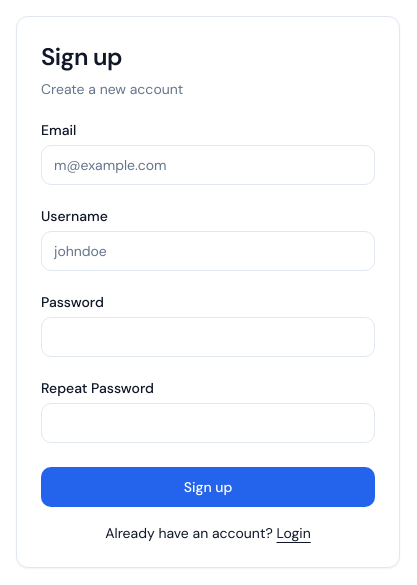
Test: SignUpPage › displays loading state while signing up
In the field labelled "Email": (208, 165) [41,145,375,185], type "test@example.com"
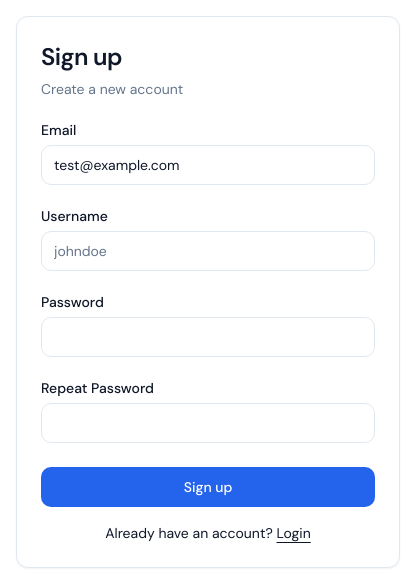
In the field labelled "Username": (208, 251) [41,231,375,271], type "testuser"
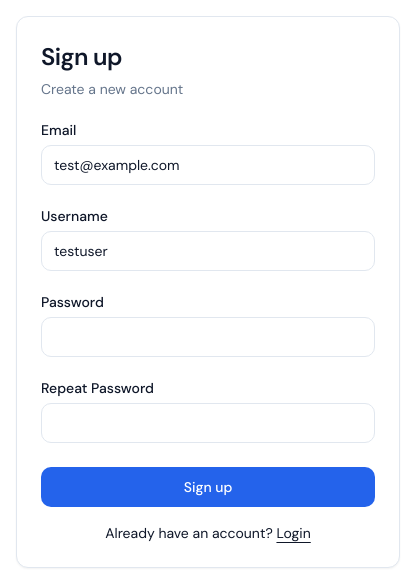
In the password field labelled "Password": (208, 337) [41,317,375,357], type "password123"
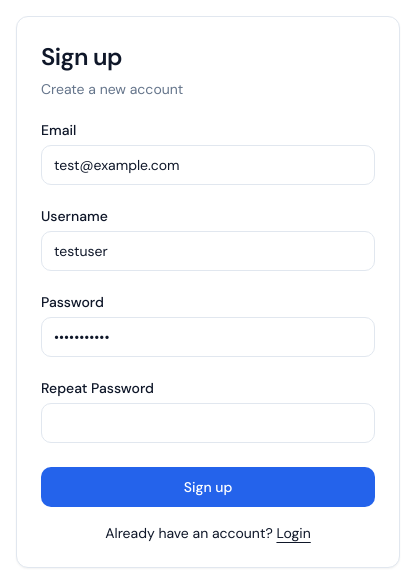
In the password field labelled "Repeat Password": (208, 423) [41,403,375,443], type "password123"
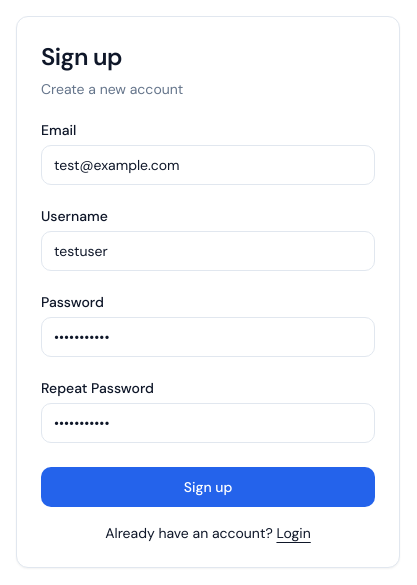
Click the button "Sign up": (208, 487) [41,467,375,507]
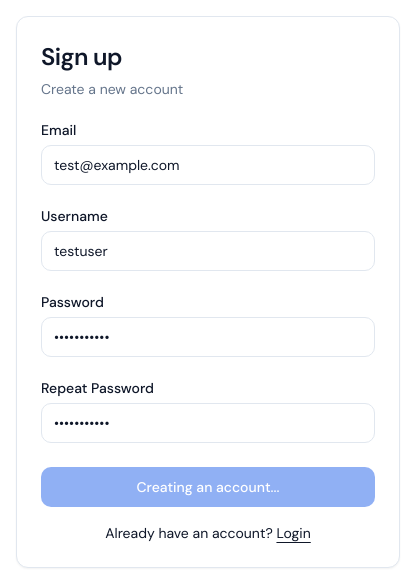
Check: the button "Creating an account..." is disabled, box [41,467,375,507]
